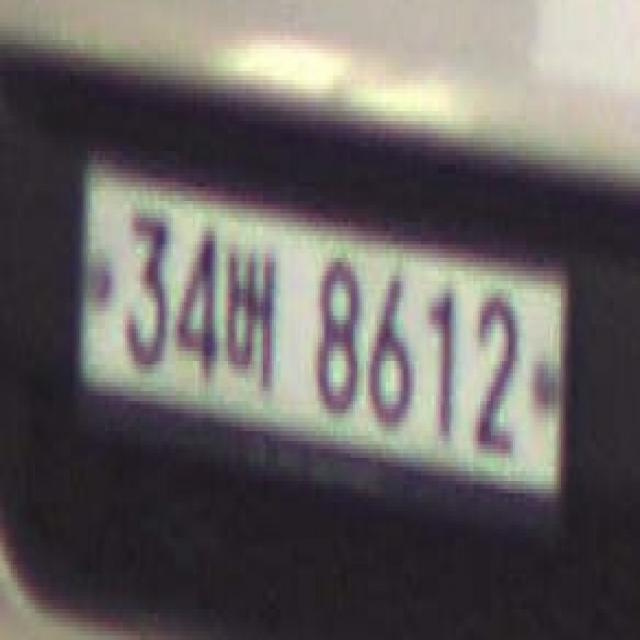1: (425, 280, 456, 440)
2: (469, 289, 519, 467)
3: (121, 204, 171, 378)
4: (171, 231, 221, 378)
6: (368, 258, 414, 431)
8: (314, 249, 362, 422)
beo: (226, 244, 276, 396)
license_plate: (75, 151, 572, 507)
